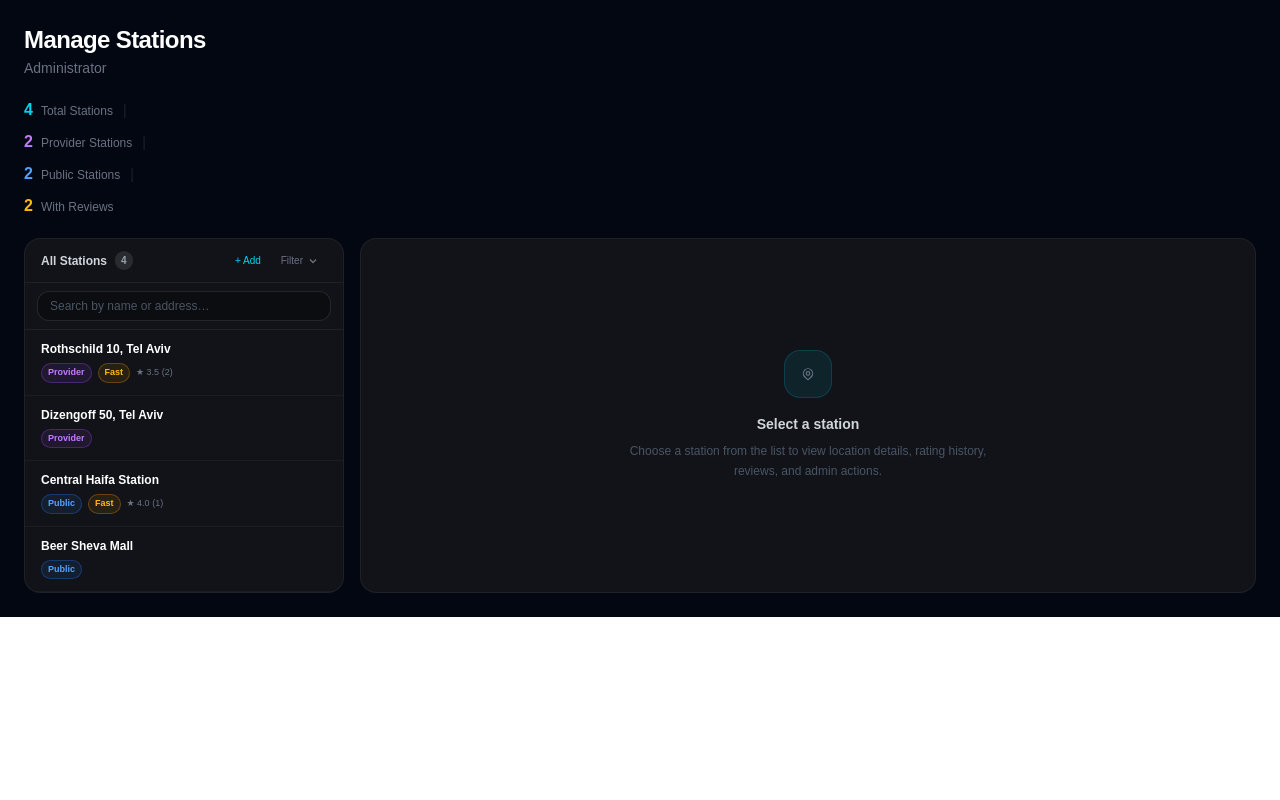
Test: source filter › hides provider stations when "Provider stations" is unchecked
Step 1. Click the button "Filter" → (300, 260), box [273,249,327,272]
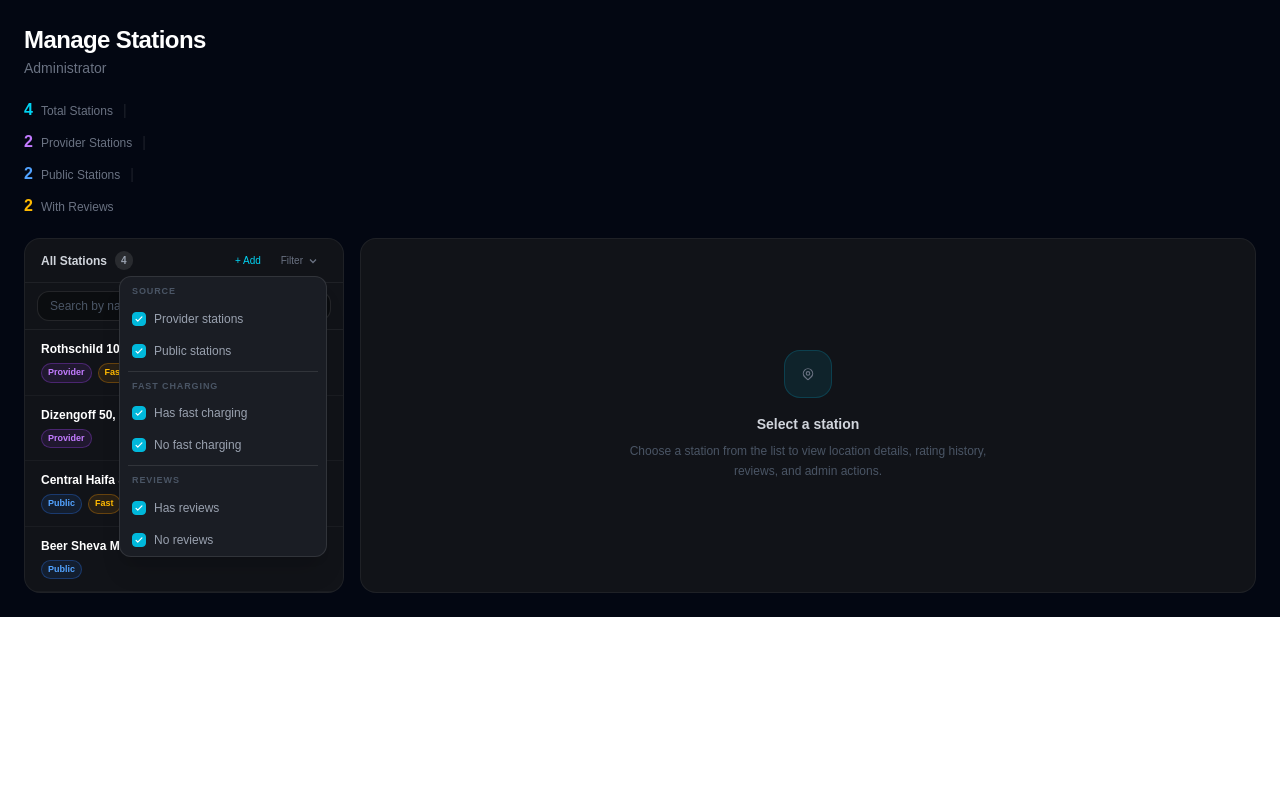
Step 2. Click the button "Provider stations" → (223, 318), box [120,302,326,334]
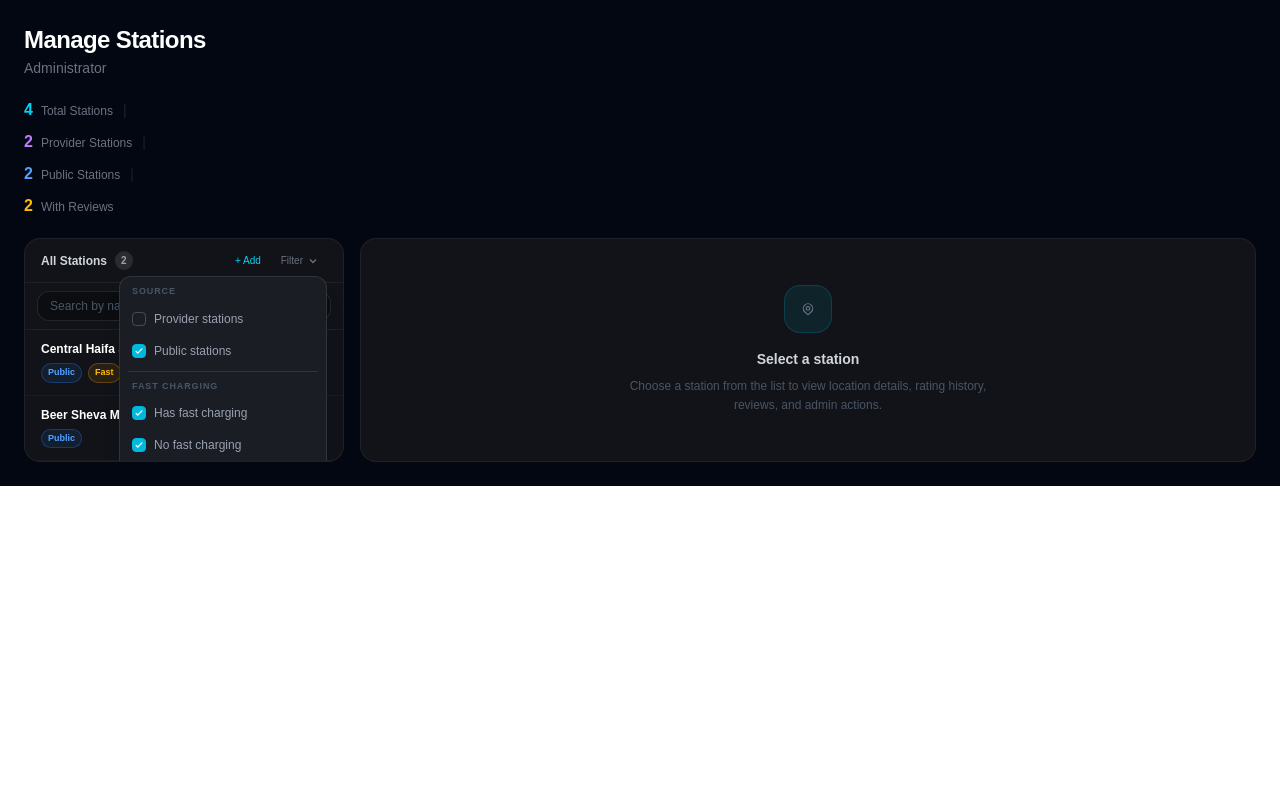
Now the button "Rothschild 10, Tel Aviv" is gone
Now the button "Dizengoff 50, Tel Aviv" is gone
